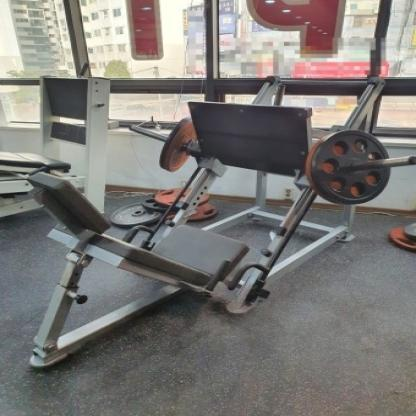leg press: (16, 64, 416, 374)
